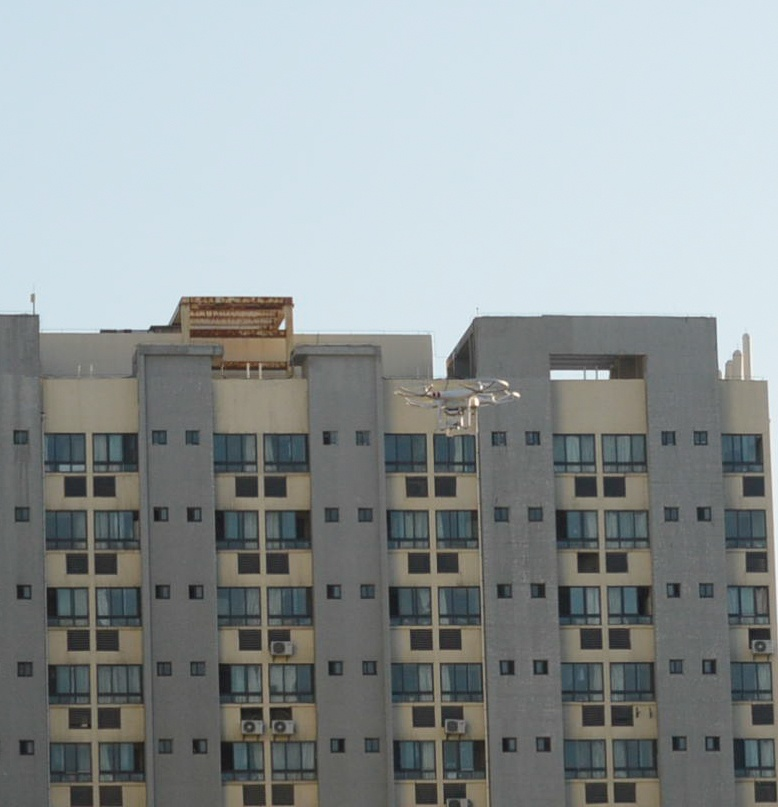DJI: (394, 375, 523, 437)
